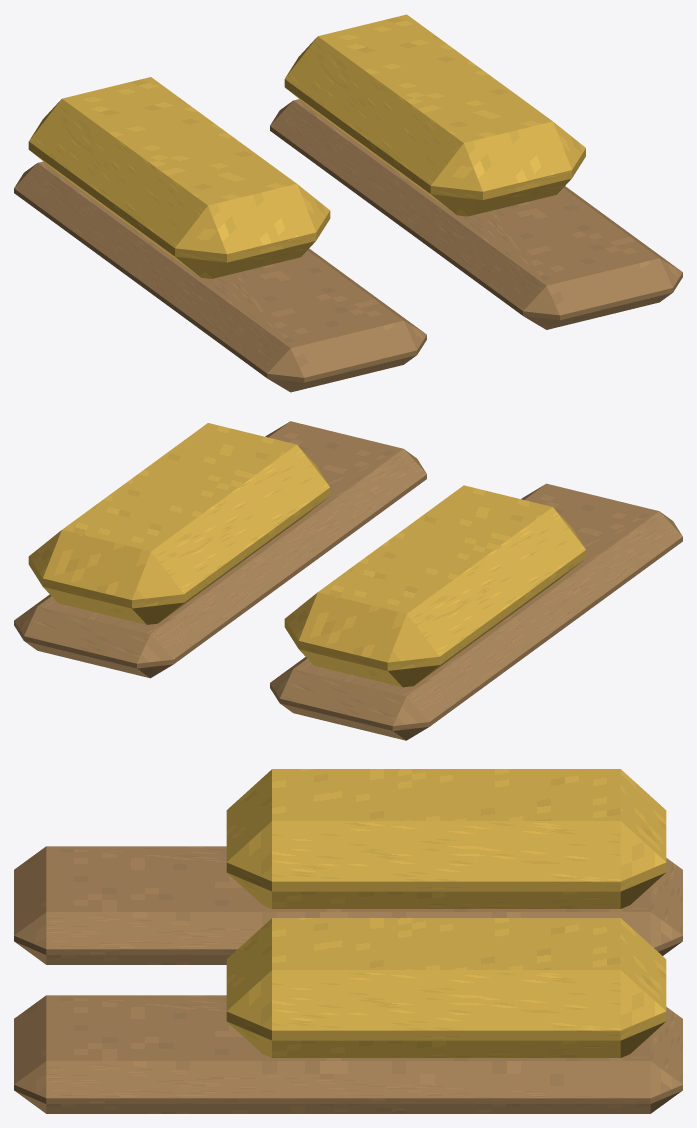
The model's file is clogs.glb.
3 renders of one model, top to bottom at view 1: azimuth 30°, elevation 25°; view 2: azimuth 150°, elevation 25°; view 3: azimuth 270°, elevation 25°, orthographic. The views are drawn at different scales.
Visible parts, largest first — view 1: block_vamp and toe (×2), block_shaped sole (×2); view 2: block_vamp and toe (×2), block_shaped sole (×2); view 3: block_vamp and toe (×2), block_shaped sole (×2).
Boxes of the visible parts, box(x1,y1,x2,y2) form: block_vamp and toe (×2): box(28, 14, 585, 278); block_shaped sole (×2): box(14, 99, 682, 392); block_vamp and toe (×2): box(28, 423, 585, 687); block_shaped sole (×2): box(14, 421, 682, 740); block_vamp and toe (×2): box(226, 769, 666, 1057); block_shaped sole (×2): box(14, 846, 682, 1113).
Size of the model in its own units: 0.1827 by 0.0482 by 0.2133.
1 material, 1 textured.
